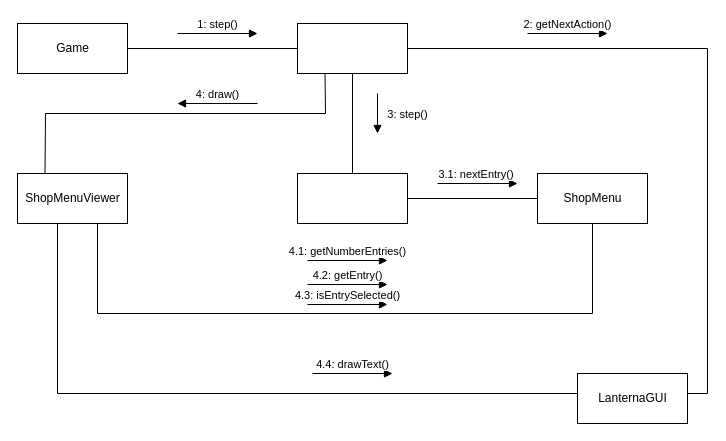
The diagram is 726 pixels wide and 441 high, and some of its shapes have lost their labels. The centre of each missing label's shape, as x and y in pixels:
"ShopMenuController" goes at (352,198).
"ShopMenuState" goes at (352,48).
